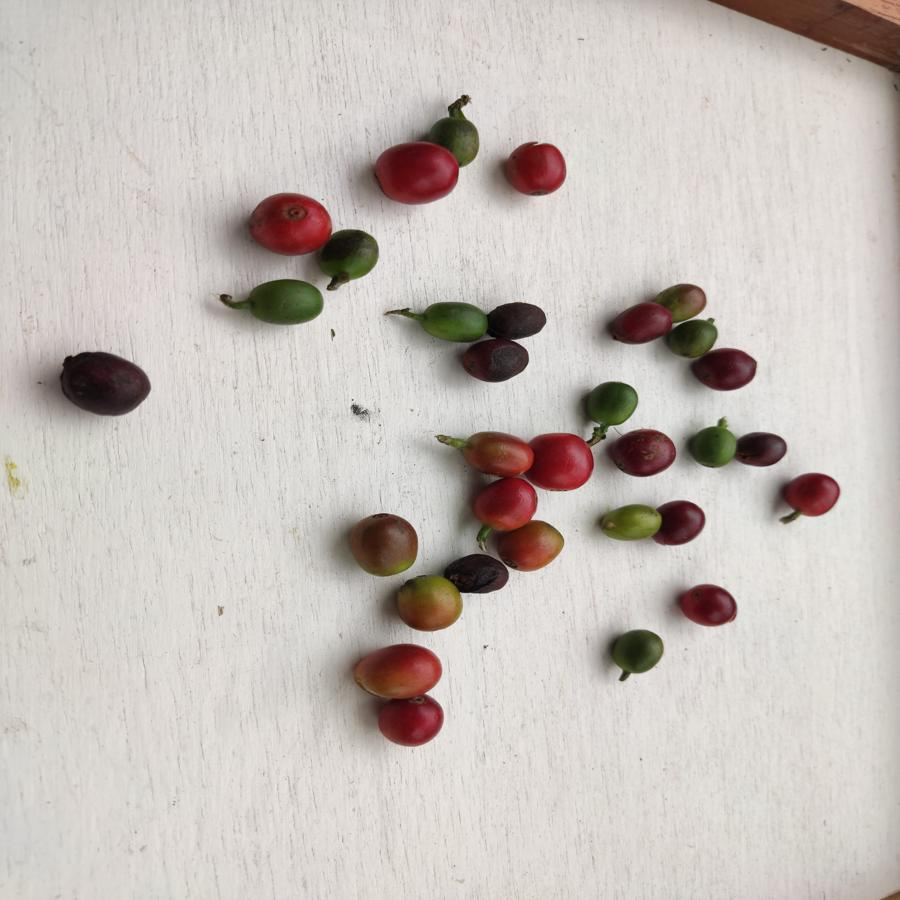Inmaduro: (244, 275, 329, 327), (413, 297, 488, 345), (581, 379, 645, 429), (332, 225, 383, 280), (610, 628, 666, 677), (691, 421, 740, 471), (665, 317, 719, 360), (453, 112, 480, 168)
Maduro: (241, 190, 333, 254), (370, 141, 459, 205), (530, 432, 595, 494), (369, 698, 449, 747), (502, 141, 568, 197), (473, 477, 539, 533), (782, 469, 841, 516)
Pinton: (350, 637, 450, 700), (346, 512, 419, 575), (393, 572, 464, 631), (460, 428, 533, 476), (511, 521, 567, 573), (598, 500, 664, 543), (665, 279, 707, 320)
Sobremaduro: (56, 348, 152, 416), (606, 429, 679, 479), (691, 348, 759, 395), (443, 550, 510, 594), (678, 581, 739, 629), (459, 341, 531, 381), (605, 301, 668, 345), (487, 297, 547, 341), (661, 494, 706, 550), (738, 427, 789, 470)
